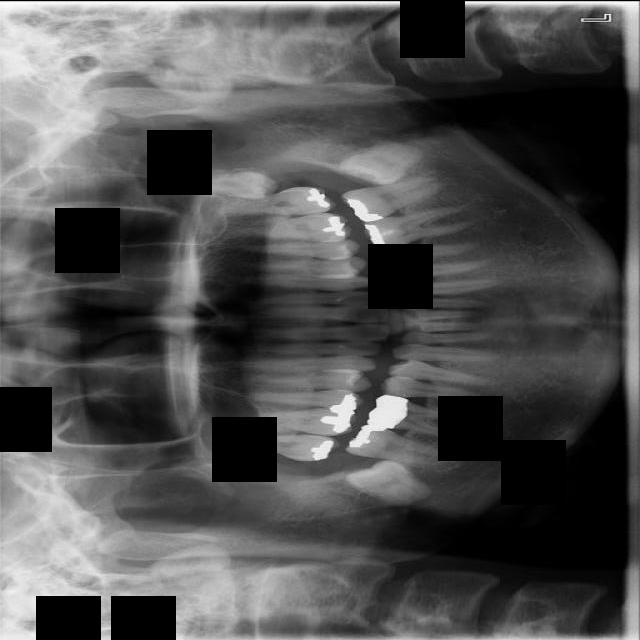52: (283, 170, 337, 223), (336, 184, 393, 232), (344, 414, 393, 466), (360, 208, 404, 257), (366, 392, 412, 432), (307, 207, 354, 246), (305, 406, 359, 438), (287, 433, 342, 461), (319, 387, 364, 411), (379, 246, 412, 268)
73: (571, 50, 580, 58)
BioHorizons Implant: (224, 184, 336, 216)
BioLife Implant: (188, 169, 276, 199)
Biomet 3i Implant: (336, 128, 430, 201)
Blue Sky Bio Implant: (340, 172, 445, 226)
Caries: (226, 424, 342, 465)
Implant: (343, 420, 454, 471)
Keystone Dental Implant: (342, 442, 436, 520)
